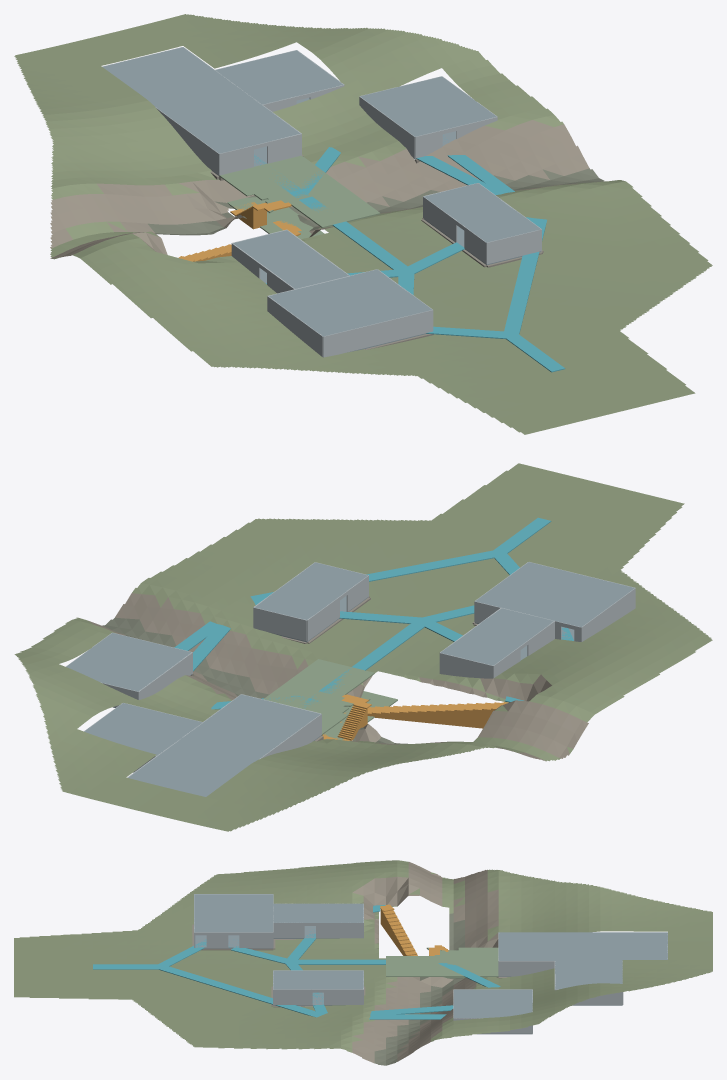
The model's file is benched-terrain.glb.
The picture shows the model from 3 angles, top to bottom: view 1: azimuth 30°, elevation 25°; view 2: azimuth 150°, elevation 25°; view 3: azimuth 270°, elevation 25°; orthographic projection. The views are drawn at different scales.
Visible parts, largest first — view 1: Saved editor stair bench terrain WLD-12, Ceiling cap tunnel, Ceiling cap signal, Ceiling cap store, Ceiling cap refuge, Ceiling cap coach-b, Ceiling cap coach-a, Wall signal S, Floor trestle.008, L04 support 0, Floor trestle.005, Wall coach-b S (+10 smaller); view 2: Saved editor stair bench terrain WLD-12, Ceiling cap tunnel, Ceiling cap signal, Ceiling cap store, Ceiling cap refuge, Ceiling cap coach-b, Ceiling cap coach-a, Floor trestle.008, L04 support 0, Wall coach-b N, Wall signal W, Wall coach-a N (+8 smaller); view 3: Saved editor stair bench terrain WLD-12, Ceiling cap tunnel, Ceiling cap signal, Ceiling cap store, Ceiling cap coach-b, Ceiling cap coach-a, Ceiling cap refuge, L04 support 0, Floor trestle.008, Wall coach-a E, Wall tunnel E.001, Wall coach-b E (+14 smaller).
Part boxes in pixels (x1,y1,x2,y2): Saved editor stair bench terrain WLD-12: (14,14,712,434); Ceiling cap tunnel: (102,47,300,153); Ceiling cap signal: (269,269,432,336); Ceiling cap store: (360,76,496,136); Ceiling cap refuge: (215,50,343,104); Ceiling cap coach-b: (424,183,540,242); Ceiling cap coach-a: (233,230,349,288); Wall signal S: (323,310,432,357); Floor trestle.008: (293,188,380,226); L04 support 0: (504,218,546,335); Floor trestle.005: (248,155,324,185); Wall coach-b S: (486,229,541,264); Saved editor stair bench terrain WLD-12: (14,463,712,831); Ceiling cap tunnel: (128,694,320,796); Ceiling cap signal: (475,562,634,626); Ceiling cap store: (66,633,191,691); Ceiling cap refuge: (84,703,202,755); Ceiling cap coach-b: (254,562,367,619); Ceiling cap coach-a: (440,608,553,665); Floor trestle.008: (285,659,369,695); L04 support 0: (250,550,498,602); Wall coach-b N: (253,607,306,641); Wall signal W: (581,588,635,641); Wall coach-a N: (439,652,493,678); Saved editor stair bench terrain WLD-12: (14,860,712,1065); Ceiling cap tunnel: (498,932,667,960); Ceiling cap signal: (194,894,273,932); Ceiling cap store: (453,989,532,1018); Ceiling cap coach-b: (273,970,363,989); Ceiling cap coach-a: (273,903,363,922); Ceiling cap refuge: (555,961,622,989); L04 support 0: (157,965,324,1017); Floor trestle.008: (386,957,434,976); Wall coach-a E: (316,923,363,938); Wall tunnel E.001: (498,961,554,976); Wall coach-b E: (324,989,363,1004).
Bounding box in the file's own units: 75 × 10.08 × 124.
